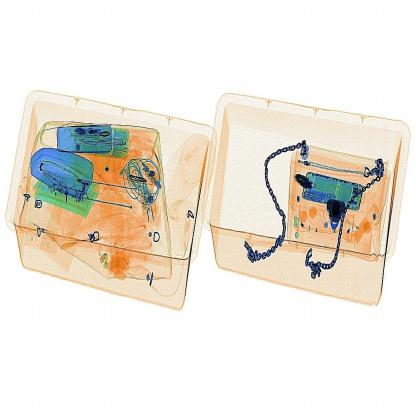scissors: (286, 164, 319, 198)
